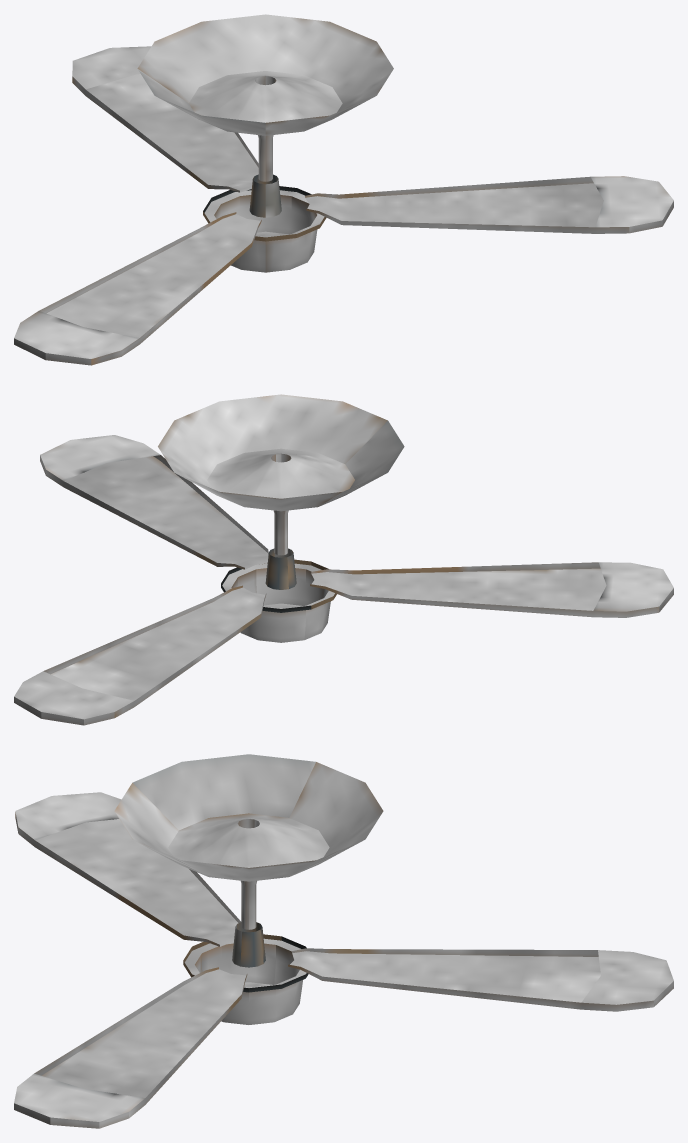
File: ceilingfan.glb
3 views of the same model, one above another, from view 1: azimuth 30°, elevation 25°; view 2: azimuth 150°, elevation 25°; view 3: azimuth 270°, elevation 25° (orthographic). The views are drawn at different scales.
Visible parts, largest first — view 1: fan, fanbase; view 2: fan, fanbase; view 3: fan, fanbase.
Boxes of the visible parts, box(x1,y1,x2,y2) form: fan: box(14, 46, 673, 365); fanbase: box(137, 14, 393, 272); fan: box(14, 435, 673, 725); fanbase: box(158, 394, 404, 642); fan: box(14, 792, 673, 1128); fanbase: box(114, 754, 383, 1024).
Bounding box in the file's own units: 1.53 × 0.4385 × 1.29.
1 material, 1 textured.
